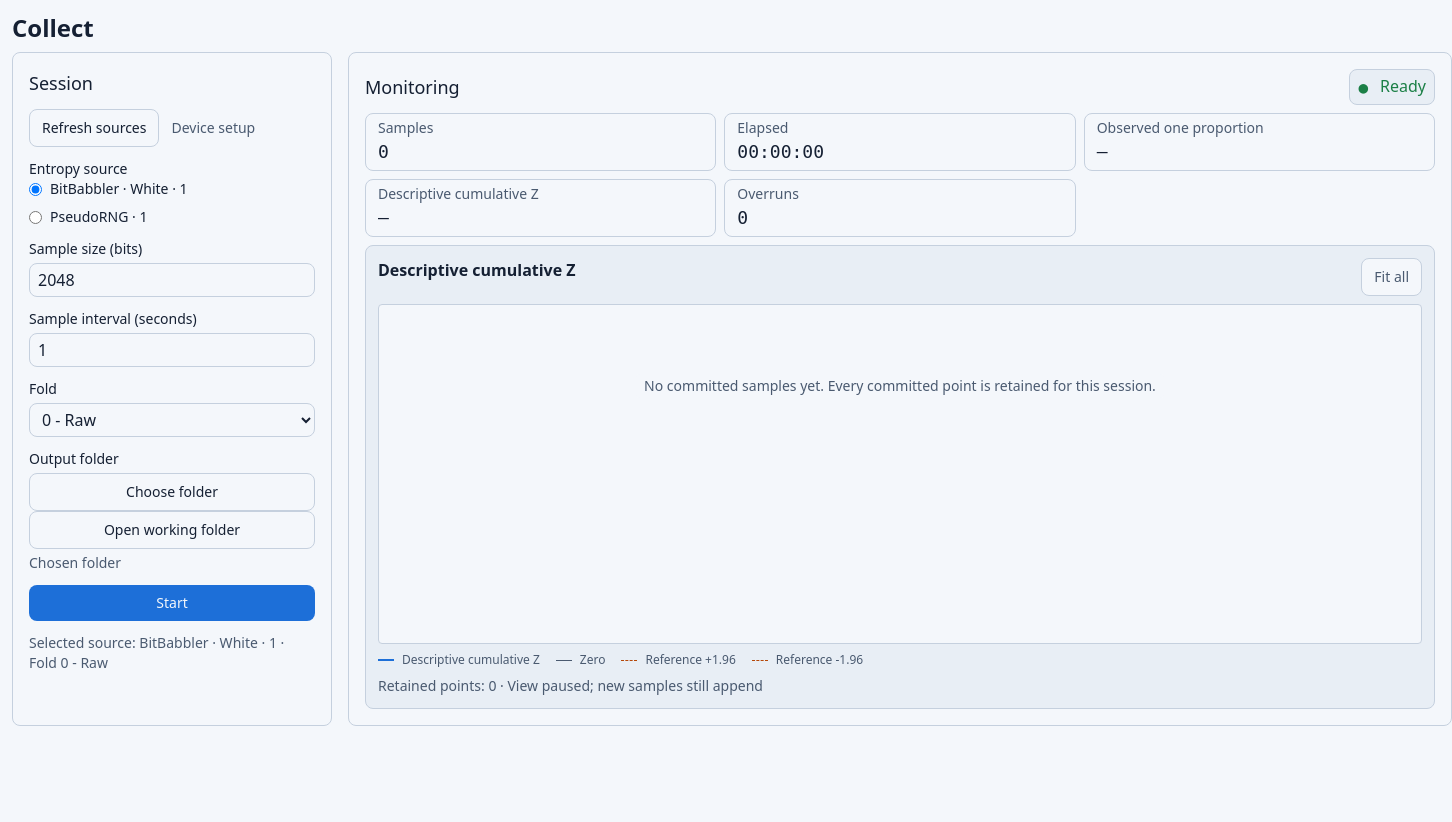
Test case: CollectPage › updates the selected mock source and conditional fold control
Click the radio button labelled "PseudoRNG · 1" at (36,217), box top-left (29, 210), bottom-right (42, 224)
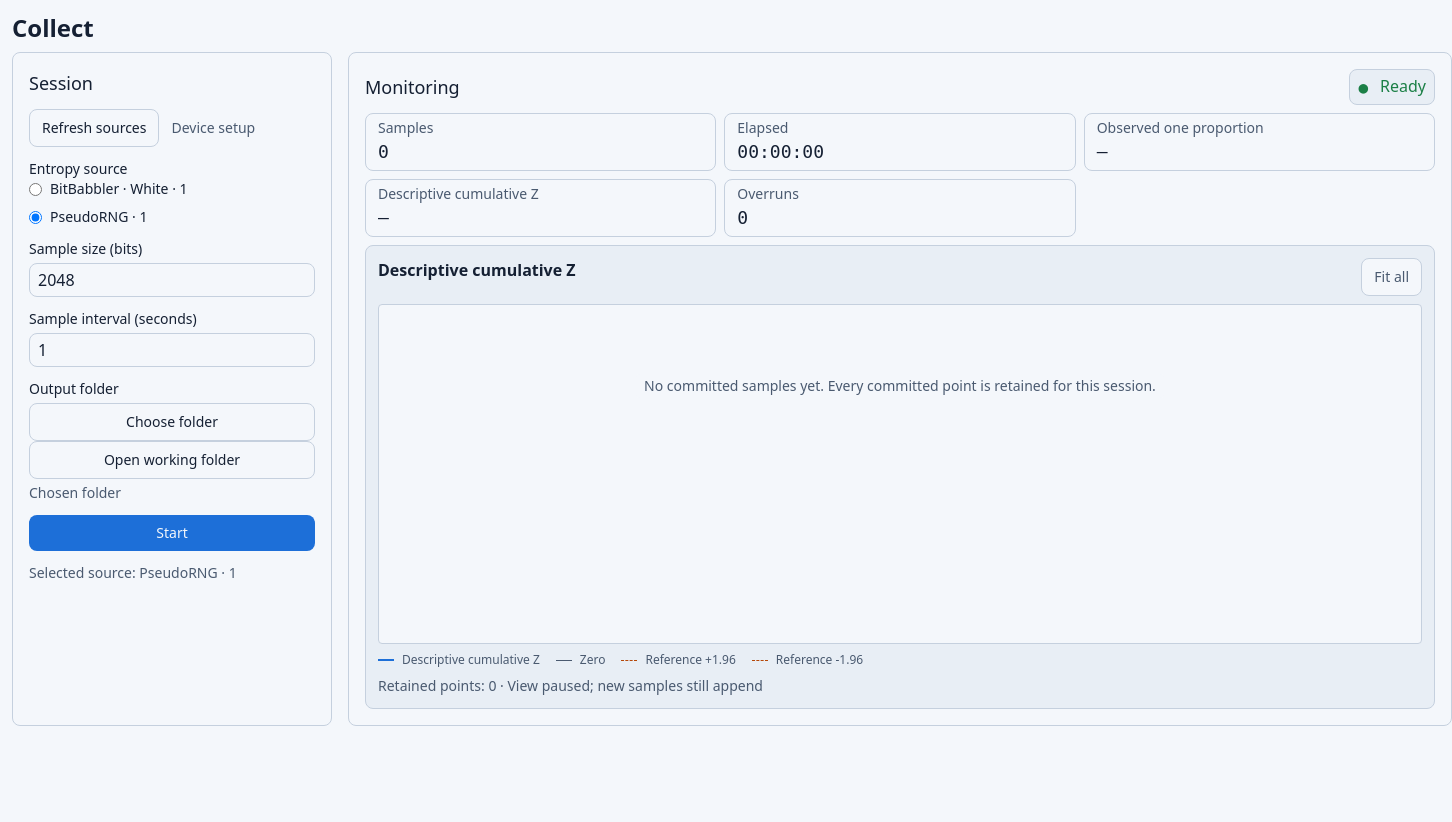
Check: the text "Selected source: PseudoRNG · 1" is shown, box top-left (29, 563), bottom-right (237, 582)
